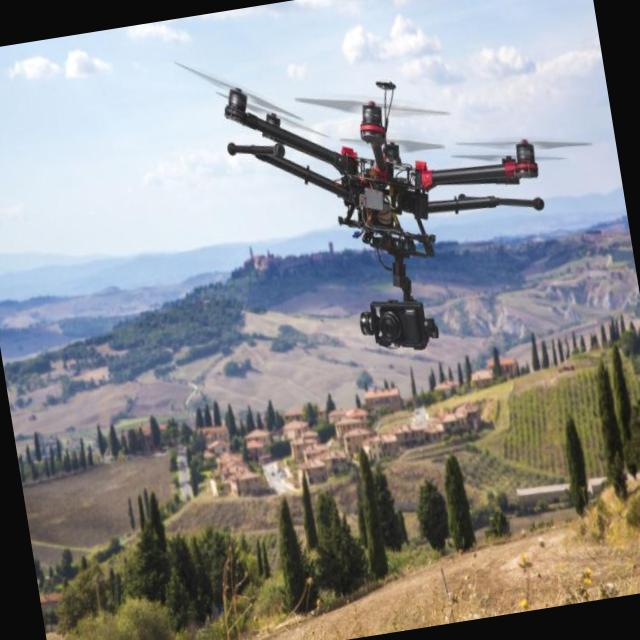drone: (172, 0, 622, 383)
